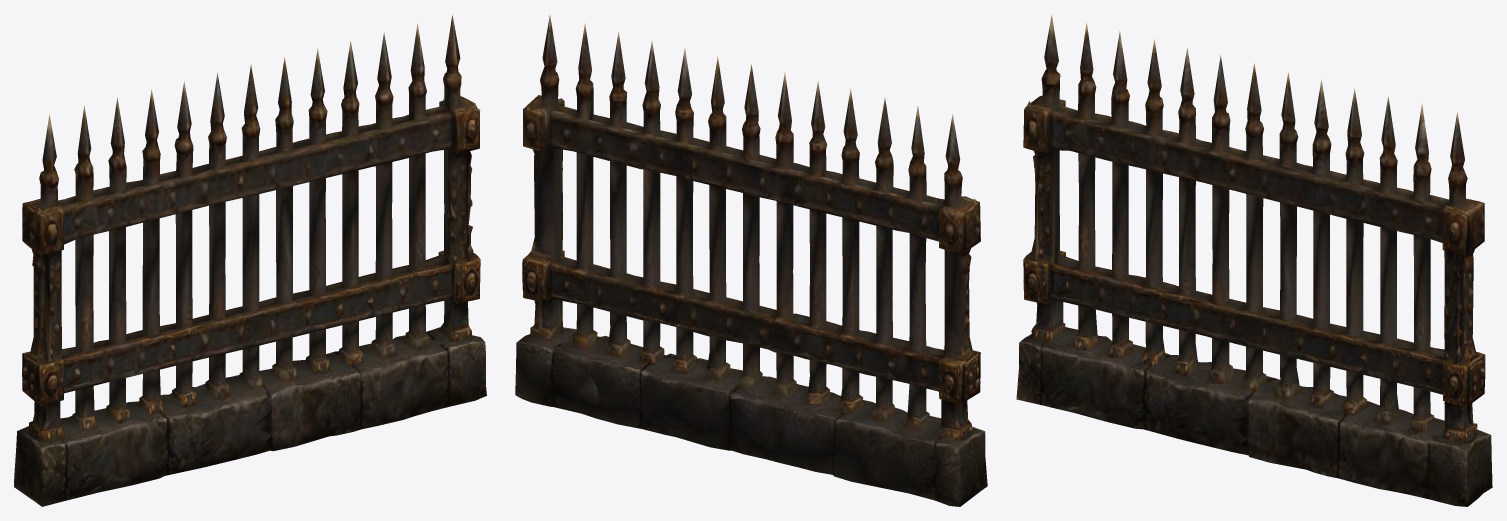
Rendered from penbars.glb.
3 views of the same model, side by side, from view 1: azimuth 30°, elevation 25°; view 2: azimuth 150°, elevation 25°; view 3: azimuth 330°, elevation 25° (orthographic).
Parts seen in each view (by area): view 1: penbars; view 2: penbars; view 3: penbars.
Boxes of the visible parts, left/top/right/bottom form: penbars: left=14, top=14, right=486, bottom=506; penbars: left=515, top=14, right=987, bottom=506; penbars: left=1016, top=14, right=1492, bottom=506.
Size of the model in its own units: 2.97 by 2.4 by 0.35.
Materials: 1 (1 with a texture image).
